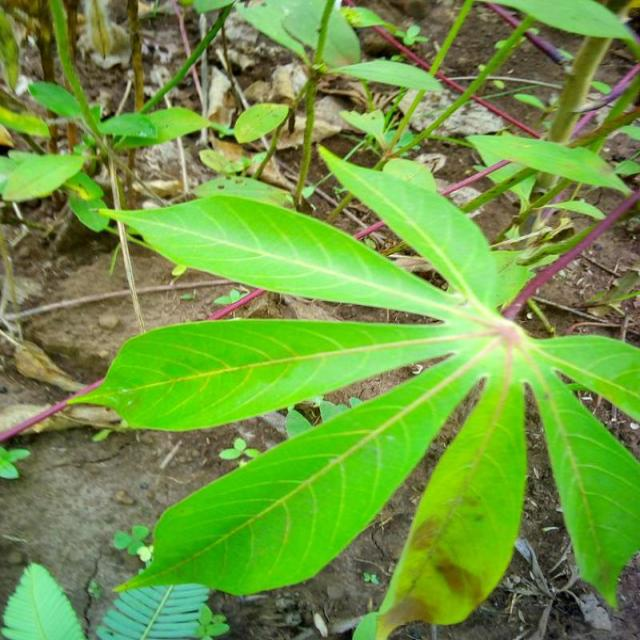cassava leaf: (79, 137, 638, 638), (0, 561, 86, 639)
